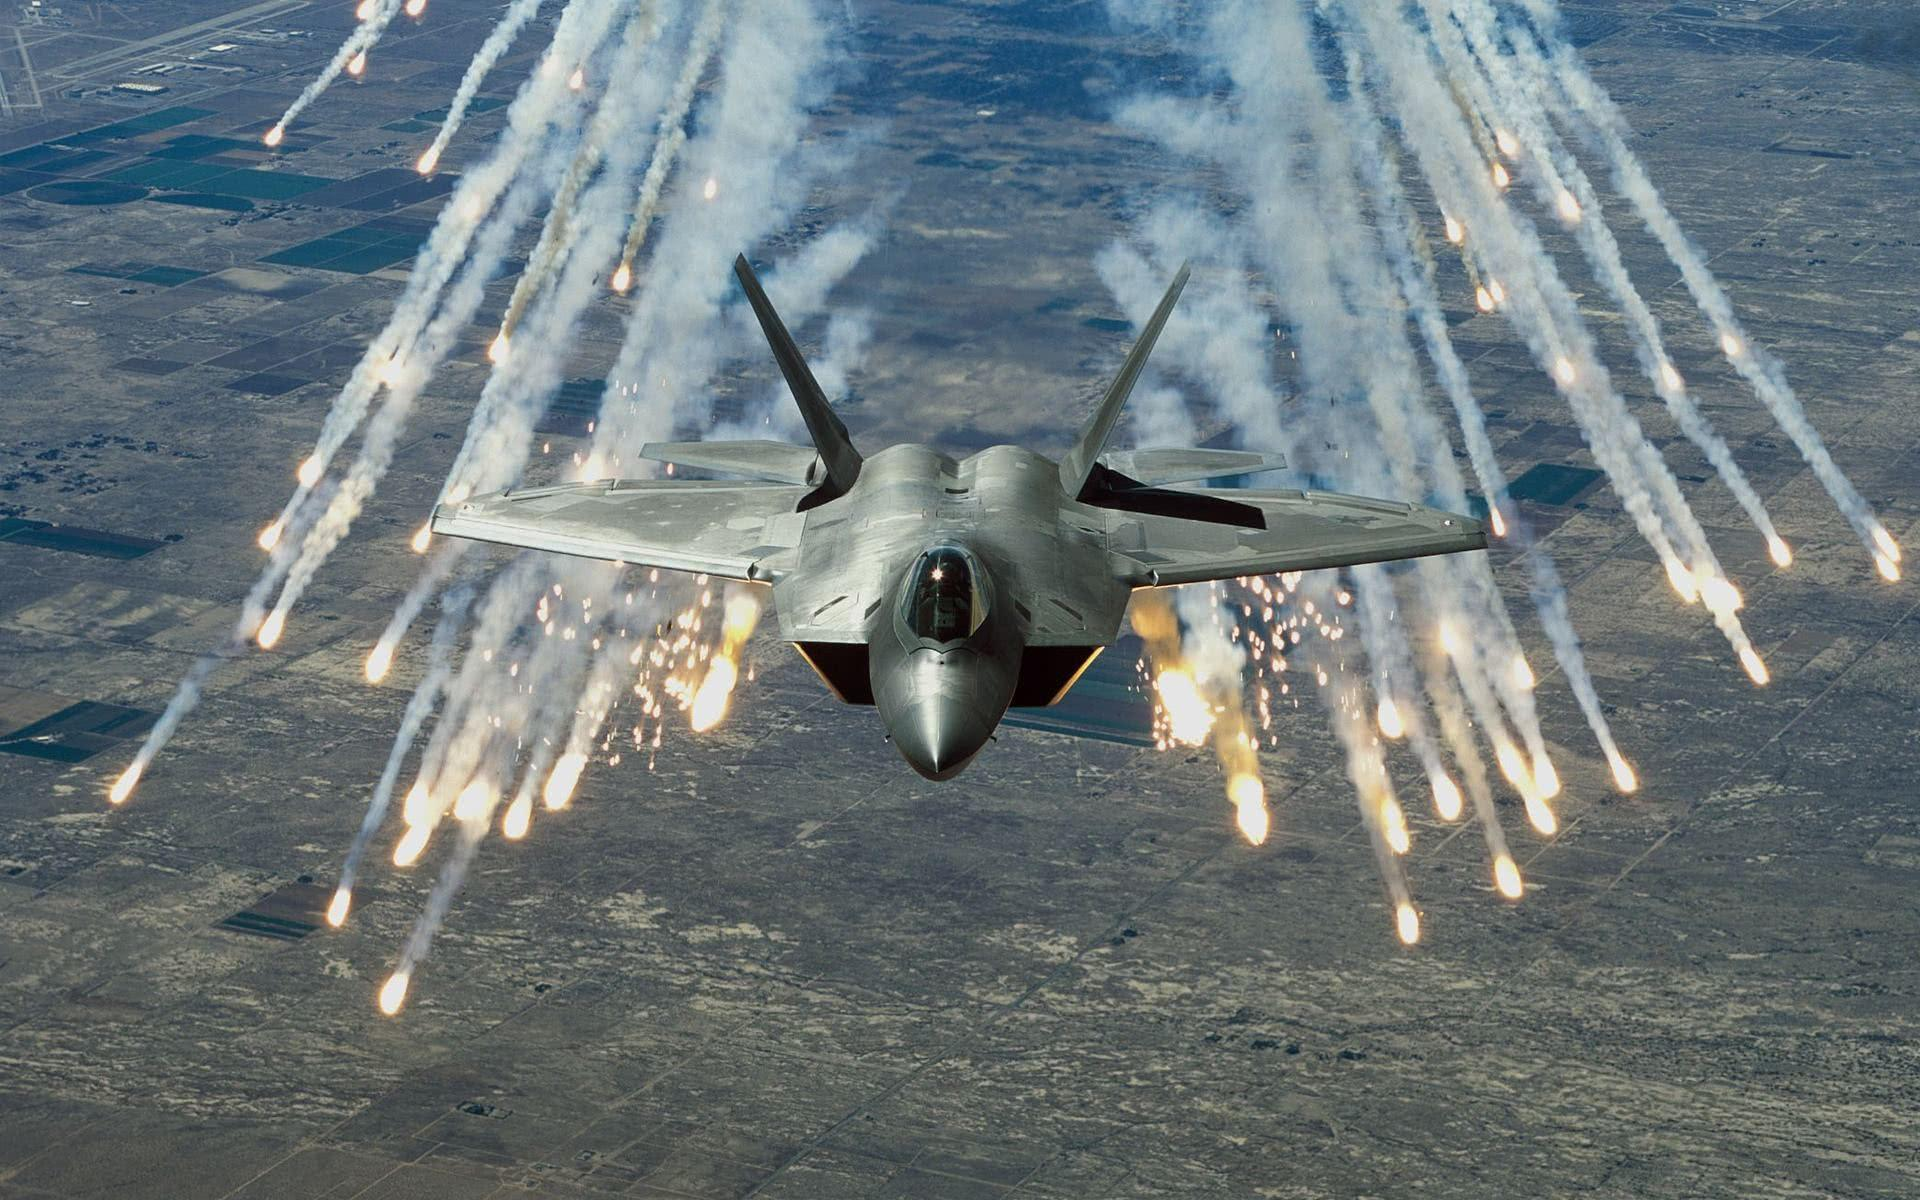fighter: (318, 176, 1603, 847)
